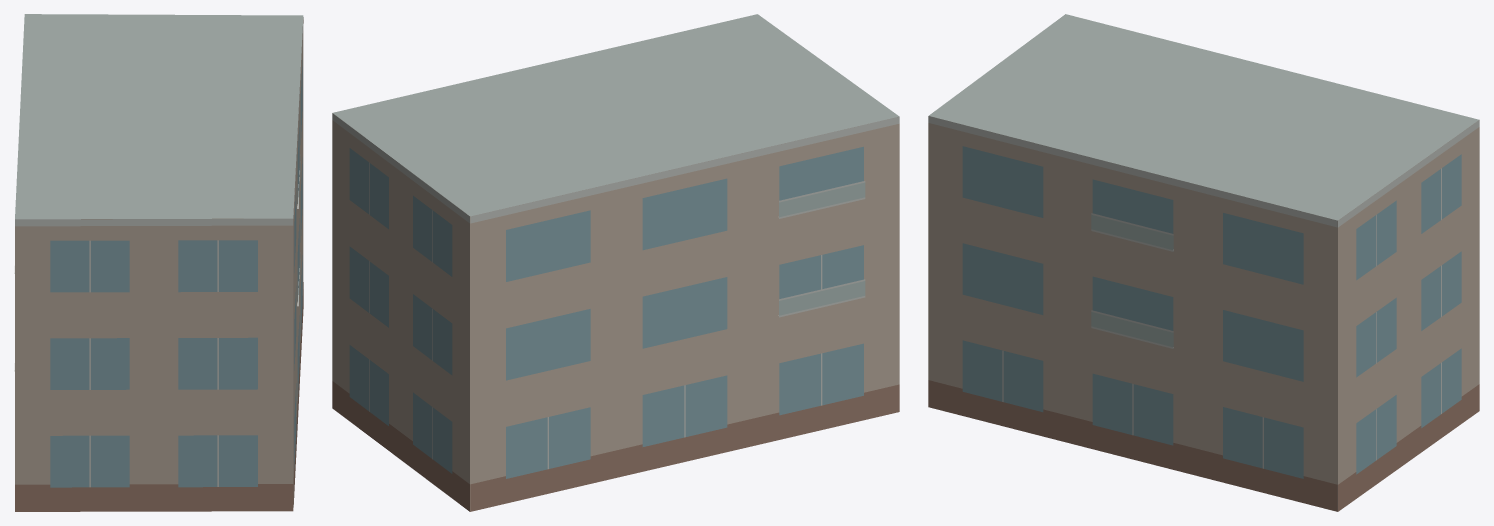
Rendered from survey-upis-32739829.glb.
3 views of the same model, side by side, from view 1: azimuth 30°, elevation 25°; view 2: azimuth 150°, elevation 25°; view 3: azimuth 270°, elevation 25° (orthographic).
Visible parts, largest first — view 1: survey-upis-32739829.tmp; view 2: survey-upis-32739829.tmp; view 3: survey-upis-32739829.tmp.
Boxes of the visible parts, bbox=[...] form: survey-upis-32739829.tmp: bbox=[14, 14, 303, 511]; survey-upis-32739829.tmp: bbox=[332, 14, 899, 511]; survey-upis-32739829.tmp: bbox=[928, 14, 1479, 511].
Bounding box in the file's own units: 15.45 × 10.15 × 17.41.
